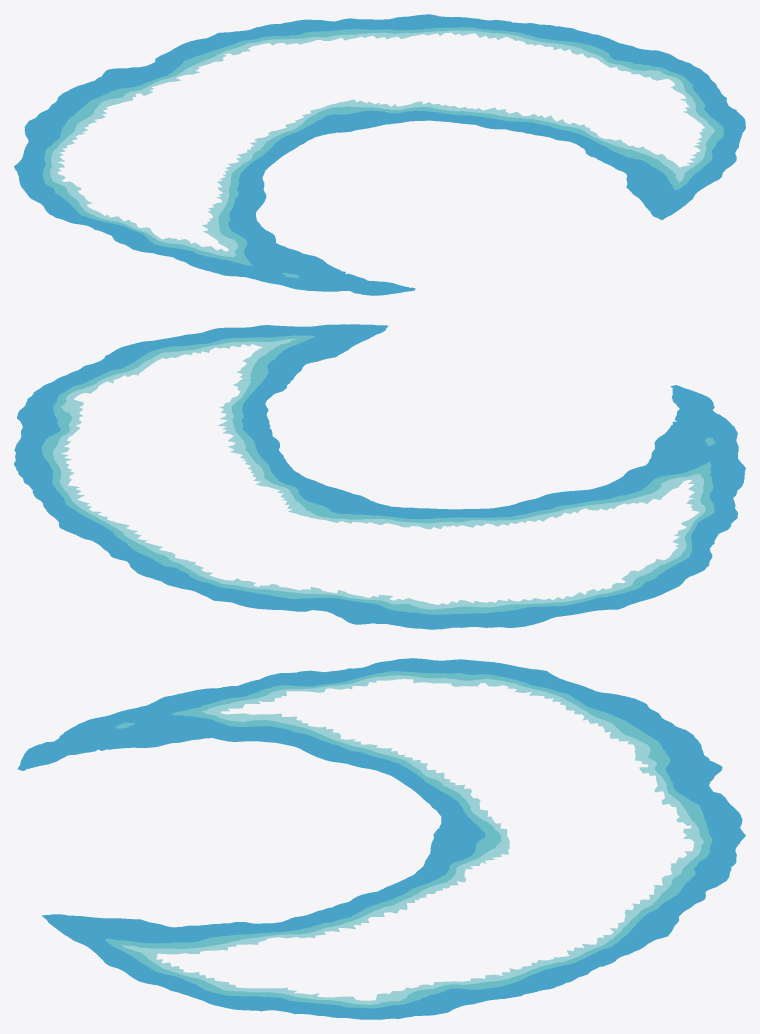
Rendered from Isl-crescent2-Water.fbx.
The picture shows the model from 3 angles, top to bottom: view 1: azimuth 30°, elevation 25°; view 2: azimuth 150°, elevation 25°; view 3: azimuth 270°, elevation 25°; orthographic projection. The views are drawn at different scales.
Visible parts, largest first — view 1: Isl-crescent2-Water; view 2: Isl-crescent2-Water; view 3: Isl-crescent2-Water.
Part boxes in pixels (x1=…): Isl-crescent2-Water: x1=14, y1=14, x2=745, y2=295; Isl-crescent2-Water: x1=14, y1=324, x2=745, y2=629; Isl-crescent2-Water: x1=17, y1=658, x2=745, y2=1019.
Bounding box in the file's own units: 116 × 0 × 99.48.
